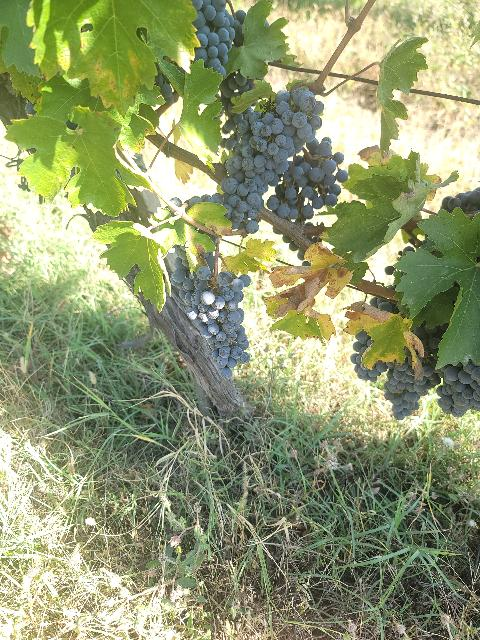grapes: (220, 86, 324, 231), (170, 258, 250, 379), (265, 138, 349, 222), (384, 326, 441, 420), (191, 0, 236, 76), (436, 361, 480, 418)
